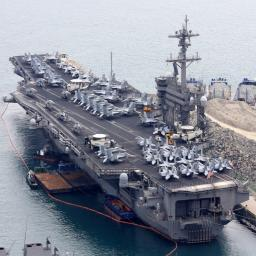Portanaves: (8, 13, 253, 248)
